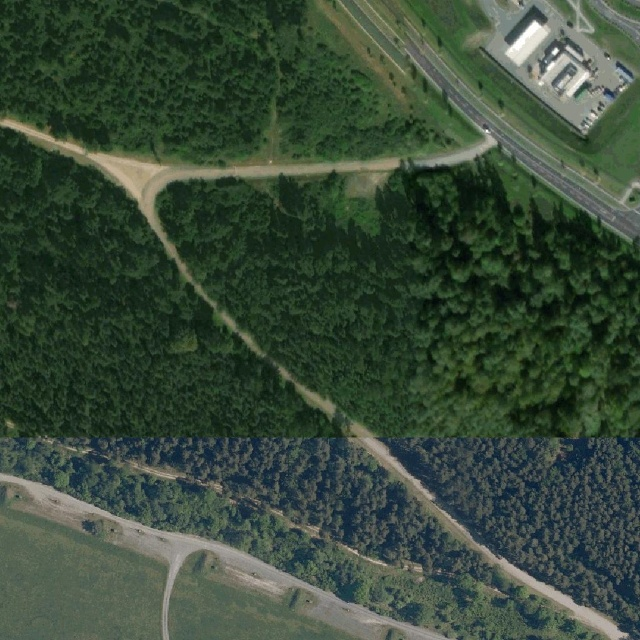vegetation: (0, 128, 600, 640), (158, 158, 640, 635), (0, 433, 530, 640), (0, 0, 457, 162)
